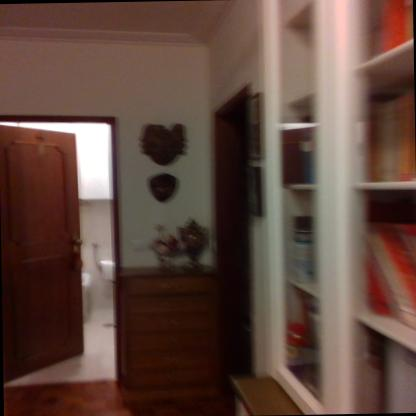semi: (0, 111, 128, 390)
